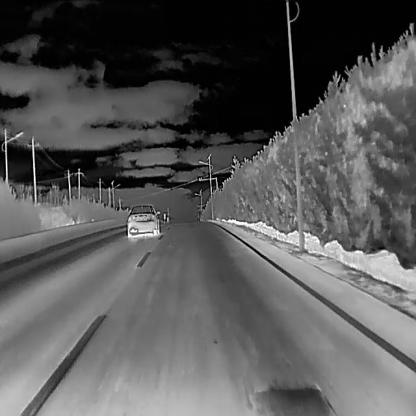car: (126, 204, 160, 236)
